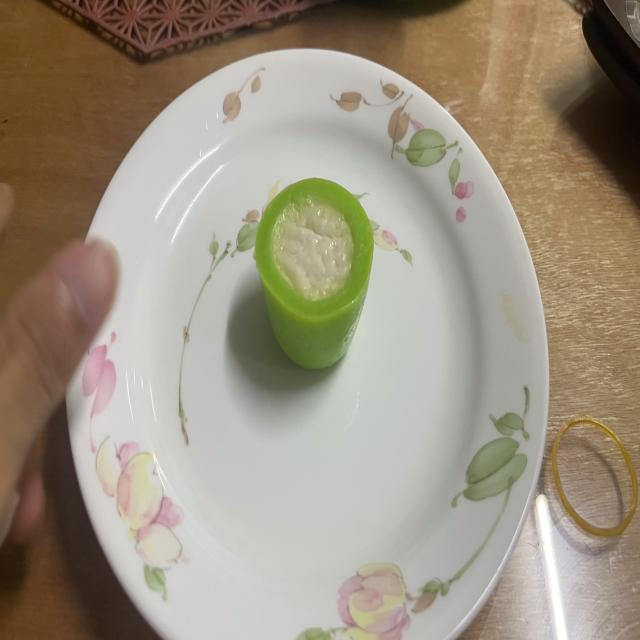nona-manis: (255, 178, 374, 369)
